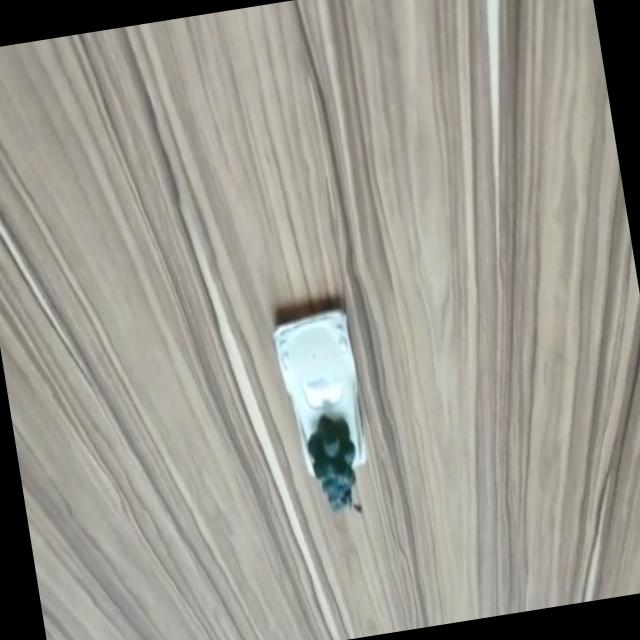car: (270, 312, 377, 478)
